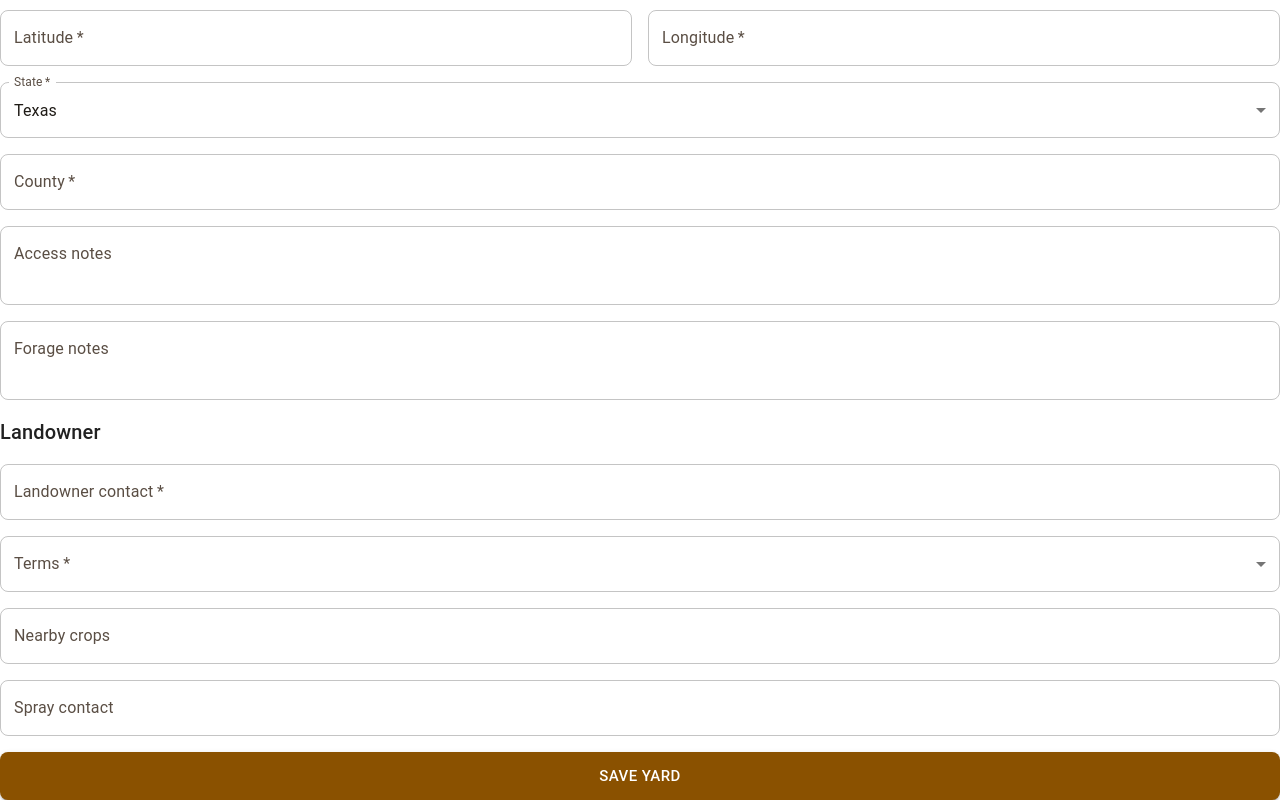
Scenario: YardForm › should show the API message on its field when the server rejects one
The image size is (1280, 800).
(page scrolled)
Click the button "Save yard" at (640, 776), box x1=0 y1=752 x2=1279 y2=799
(page scrolled)
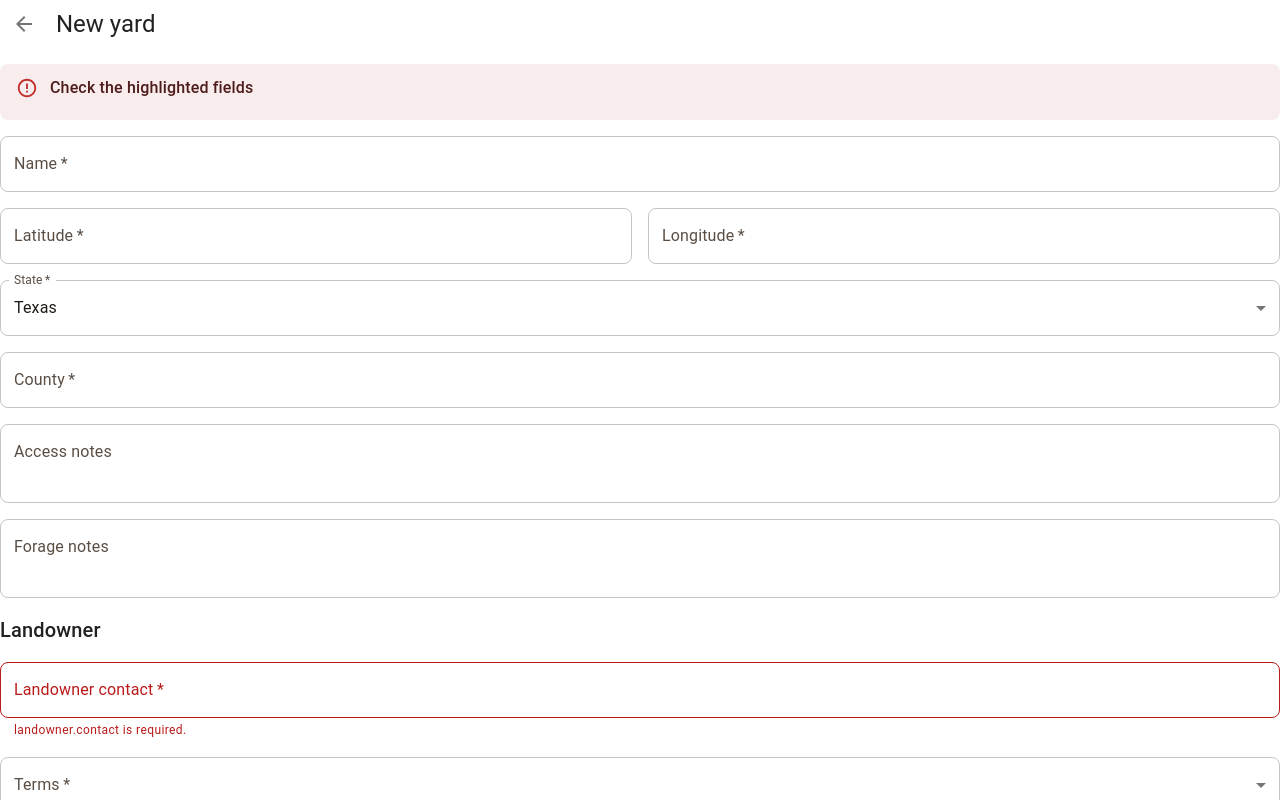
Check: the heading "Check the highlighted fields" is shown, box x1=50 y1=76 x2=253 y2=100
